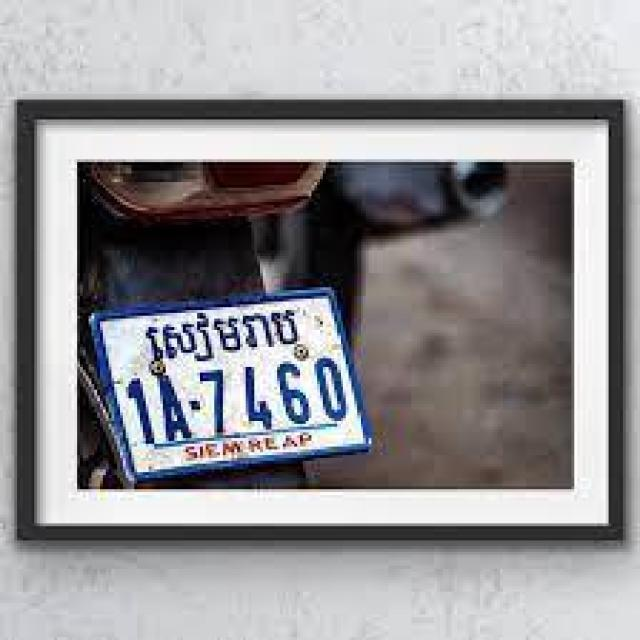Siem_Reap: (140, 304, 308, 364)
